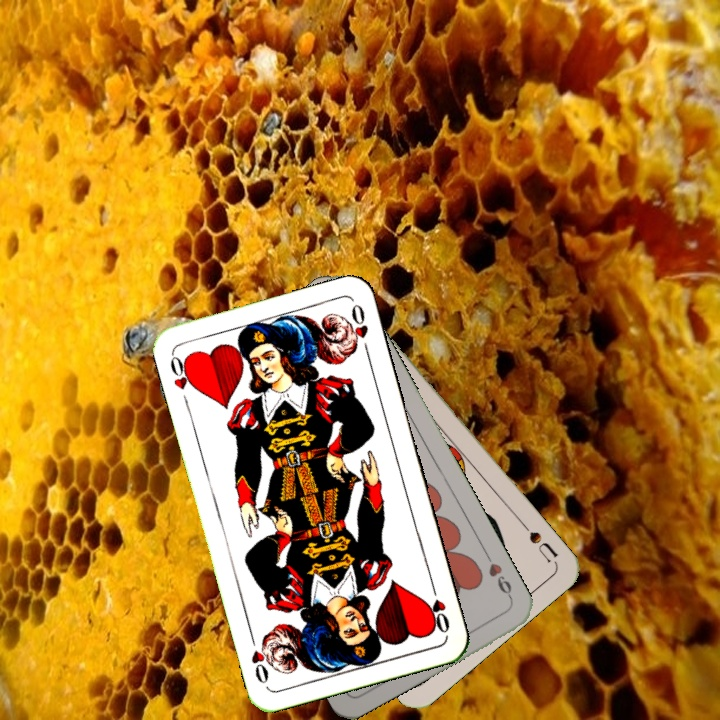H9: (481, 549, 516, 604)
HO: (422, 579, 453, 636), (166, 350, 198, 392)
SU: (516, 517, 560, 566)
